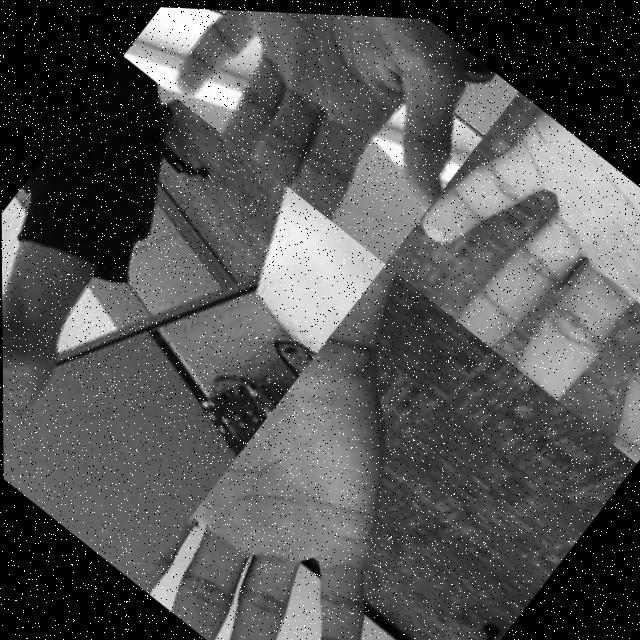no-gloves: (135, 325, 517, 640), (384, 82, 640, 458), (152, 5, 519, 265), (1, 276, 70, 471)
